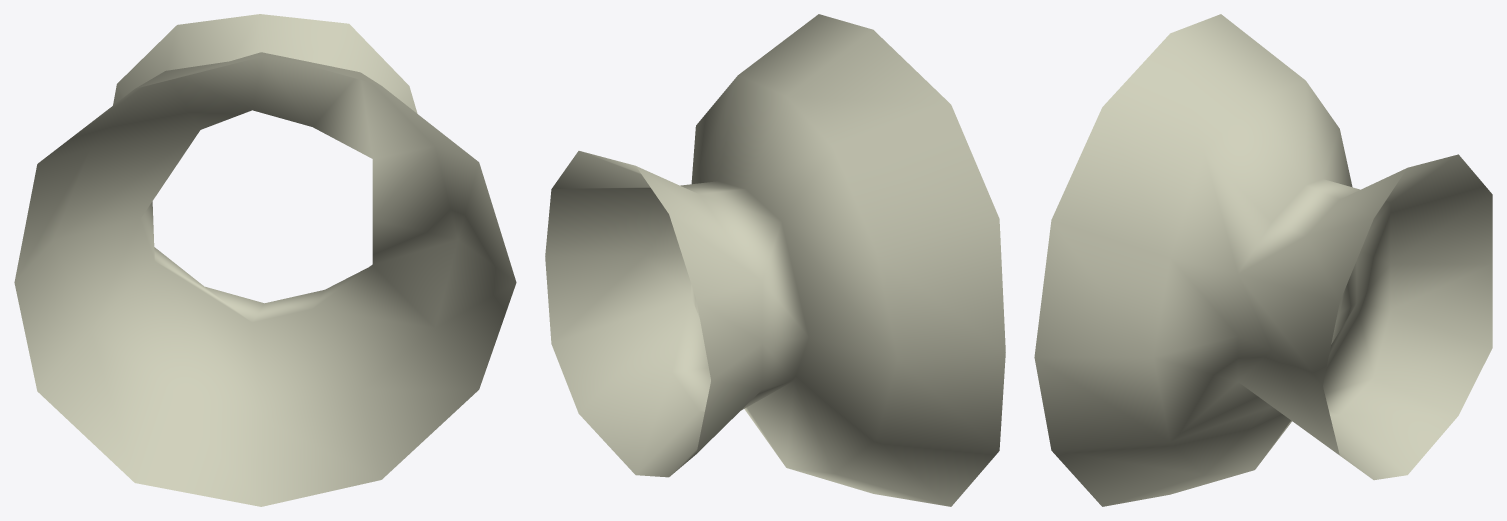
File: m_jet_bd0234d0.glb
The picture shows the model from 3 angles, left to right: view 1: azimuth 30°, elevation 25°; view 2: azimuth 150°, elevation 25°; view 3: azimuth 270°, elevation 25°; orthographic projection. The views are drawn at different scales.
Visible parts, largest first — view 1: mesh; view 2: mesh; view 3: mesh.
Boxes of the visible parts, left/top/right/bottom form: mesh: left=14, top=14, right=516, bottom=506; mesh: left=545, top=14, right=1005, bottom=506; mesh: left=1034, top=14, right=1492, bottom=506.
Bounding box in the file's own units: 30 × 30 × 27.
